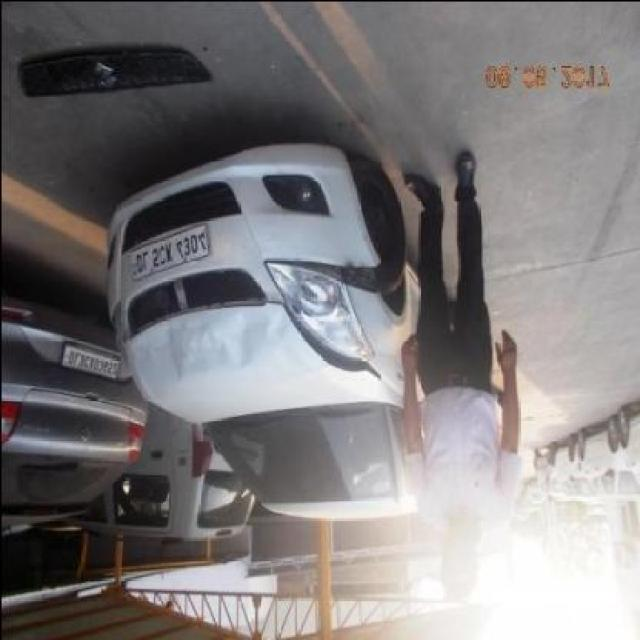damage: (128, 300, 290, 391), (118, 262, 270, 340), (275, 294, 383, 384), (262, 251, 381, 297)
